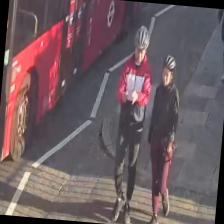person: (106, 23, 156, 224), (138, 53, 184, 224)
